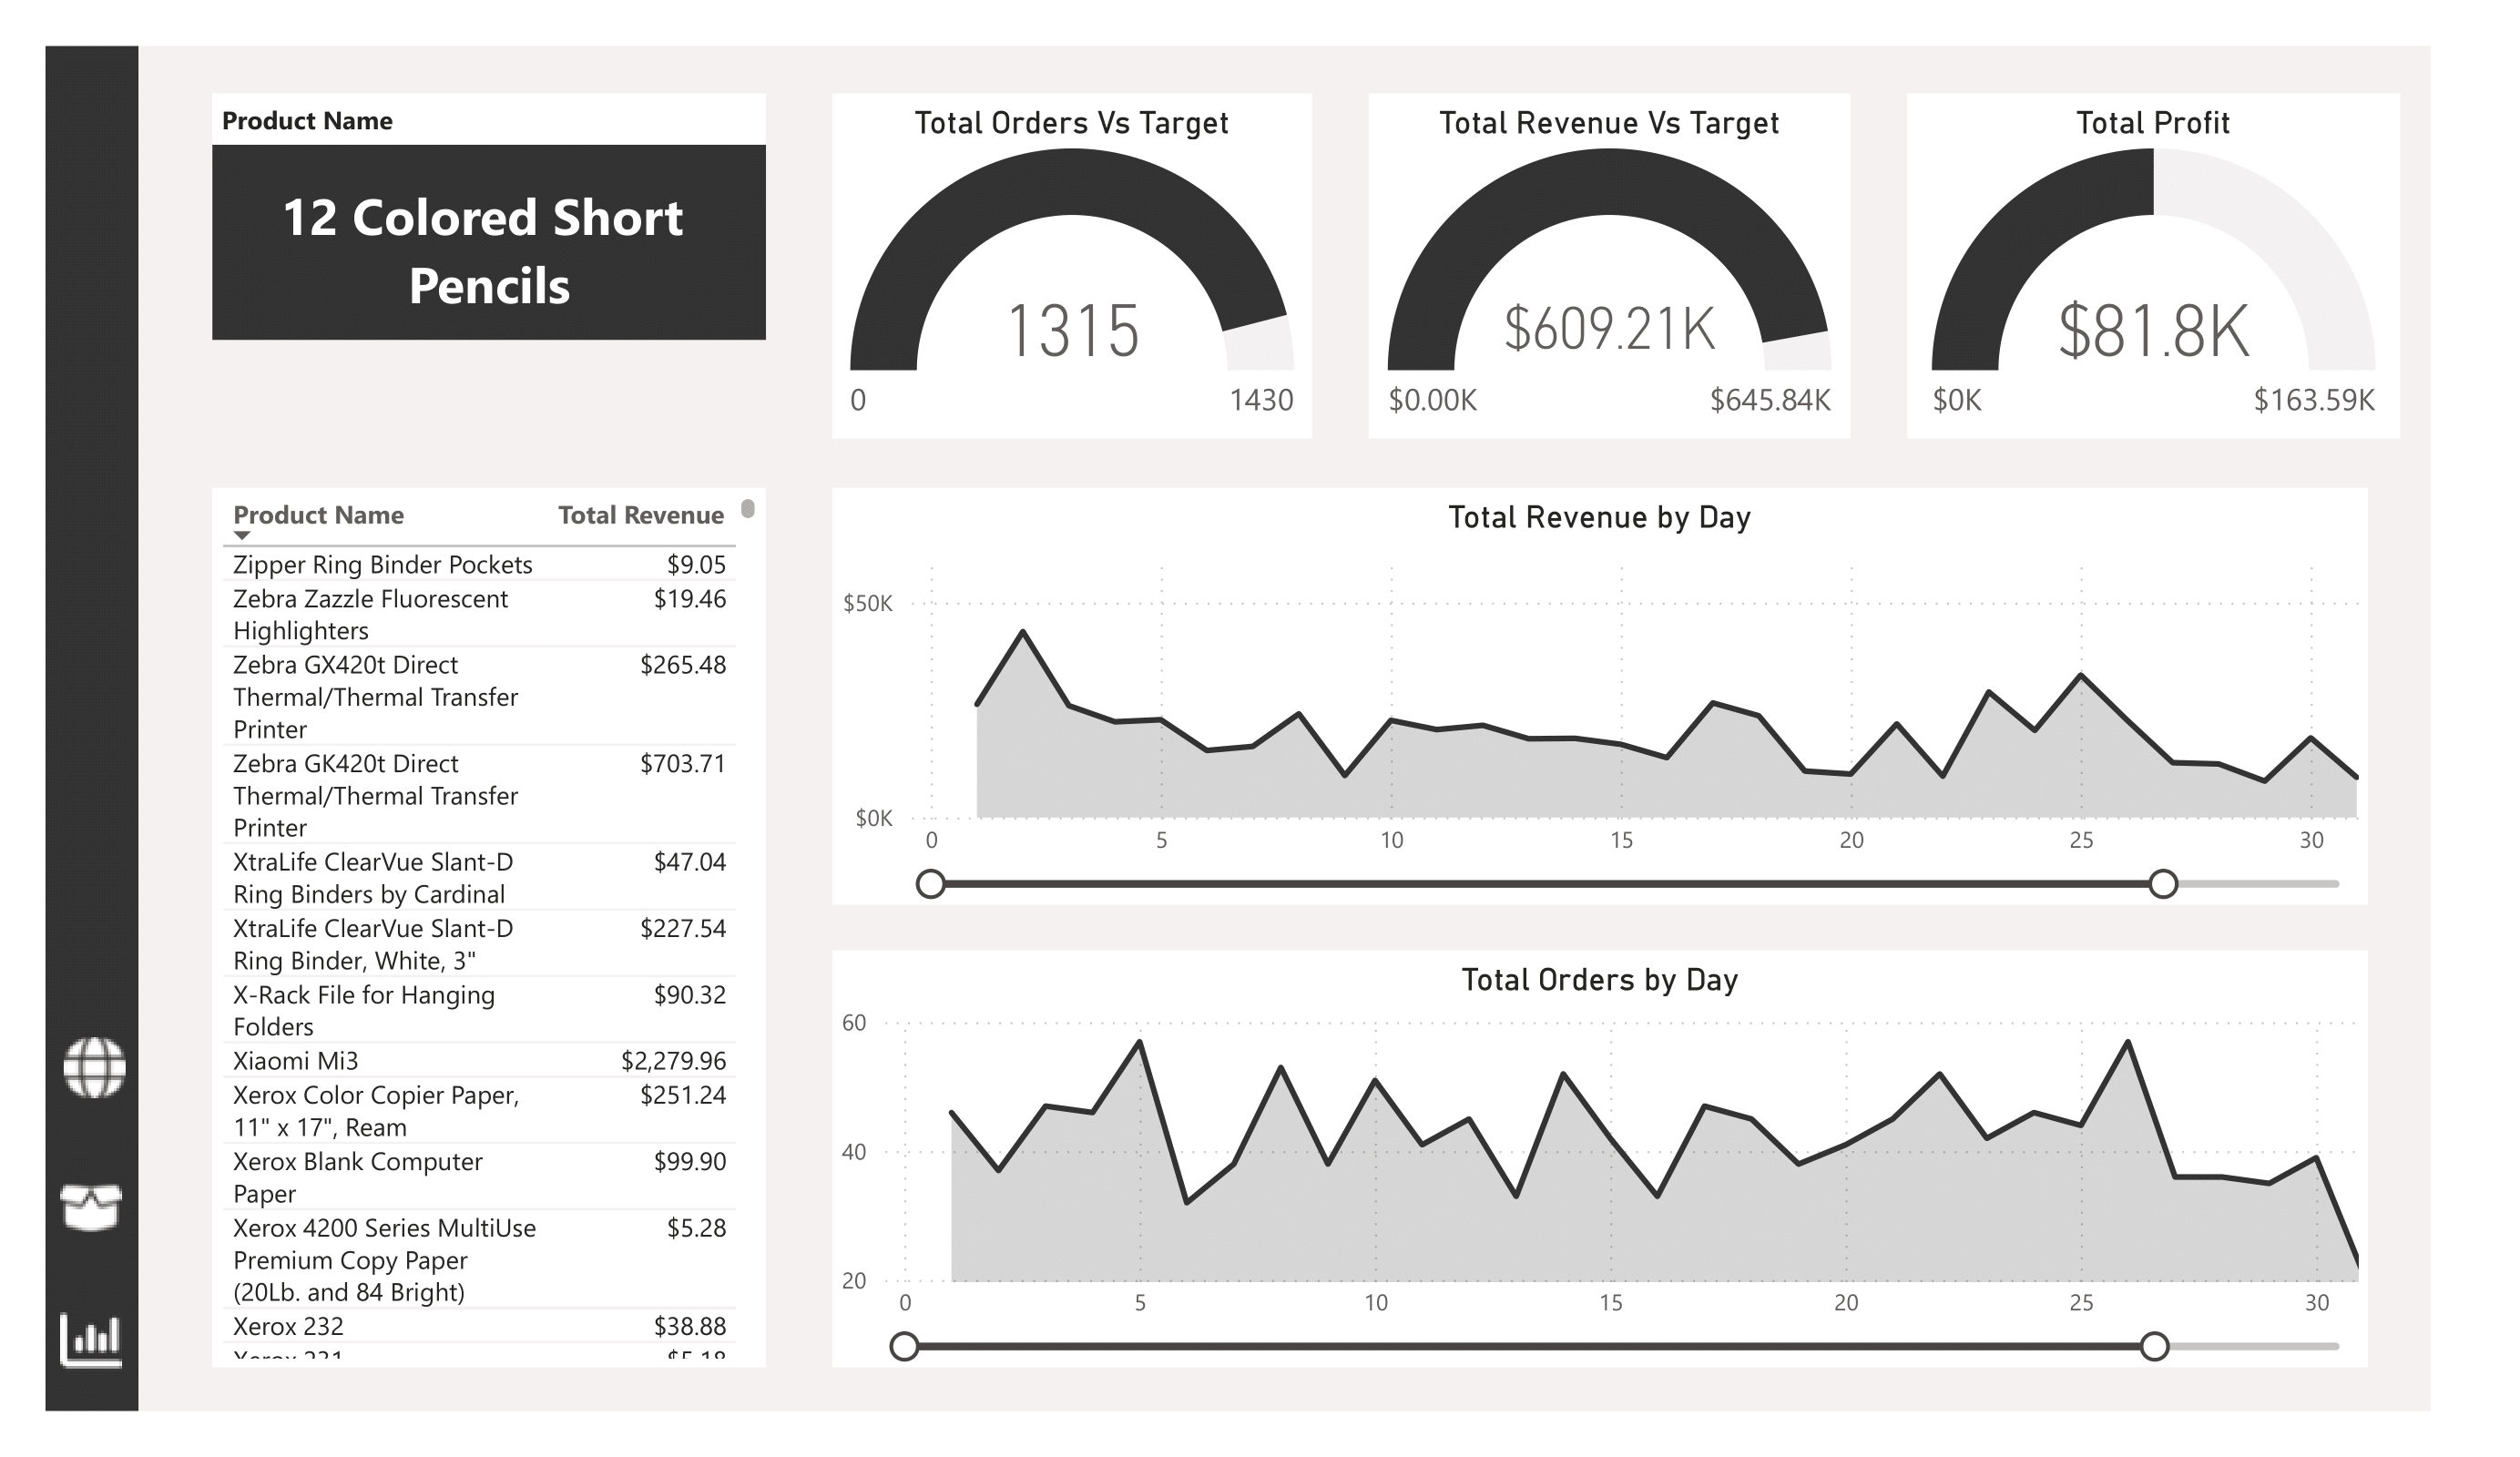

What the dashboard file says about the page in this screenshot:
{"tool":"powerbi","page":{"name":"Product","canvas":[1280,720],"ordinal":1},"visuals":[{"type":"shape","box":[5,0,1253.3,720],"z":0},{"type":"gauge","fields":{"Y":["Measures (3).Total Profit"]},"box":[981.7,25,260,181.7],"z":1000},{"type":"gauge","title":"Total Revenue Vs Target","fields":{"Y":["Measures (3).Total Revenue"],"MaxValue":["Measures (3).Revenue Target"]},"box":[698.3,25,253.3,181.7],"z":2000},{"type":"gauge","title":"Total Orders Vs Target","fields":{"Y":["Measures (3).Total Orders"],"MaxValue":["Measures (3).Order Target"]},"box":[415,25,253.3,181.7],"z":3000},{"type":"card","fields":{"Values":["Min(Orders.Product Name)"]},"box":[88.3,51.7,291.7,103.3],"z":4000},{"type":"areaChart","title":"Total Revenue by Day","fields":{"Y":["Measures (3).Total Revenue"],"Category":["Calendar2.Date2.Variation.Date Hierarchy.Year","Calendar2.Date2.Variation.Date Hierarchy.Quarter","Calendar2.Date2.Variation.Date Hierarchy.Month","Calendar2.Date2.Variation.Date Hierarchy.Day"]},"box":[415,233.3,810,220],"z":5000},{"type":"areaChart","fields":{"Y":["Measures (3).Total Orders"],"Category":["Calendar2.Date2.Variation.Date Hierarchy.Year","Calendar2.Date2.Variation.Date Hierarchy.Quarter","Calendar2.Date2.Variation.Date Hierarchy.Month","Calendar2.Date2.Variation.Date Hierarchy.Day"]},"box":[415,476.7,810,220],"z":6000},{"type":"shape","box":[0,0,48.6,720],"z":7000},{"type":"actionButton","box":[4.2,663.3,53.3,40],"z":8000},{"type":"actionButton","box":[5.6,518.9,53.3,40],"z":9000},{"type":"actionButton","box":[4.4,593.3,53.3,40],"z":10000},{"type":"tableEx","fields":{"Values":["Orders.Product Name","Measures (3).Total Revenue"]},"box":[88.3,233.3,291.7,463.3],"z":11000},{"type":"textbox","box":[88.3,25,291.7,26.7],"z":12000}]}

Visuals, with their boxes on the page's 1280x720 design canvas (x1, y1, x2, y2). These are canvas units, not pixel positions in the 2520x1457 screenshot, which may show the page scaled, cropped or inside an application window:
shape: <region>5, 0, 1258, 720</region>
gauge - Measures (3).Total Profit: <region>982, 25, 1242, 207</region>
"Total Revenue Vs Target" gauge: <region>698, 25, 952, 207</region>
"Total Orders Vs Target" gauge: <region>415, 25, 668, 207</region>
card - Min(Orders.Product Name): <region>88, 52, 380, 155</region>
"Total Revenue by Day" areaChart: <region>415, 233, 1225, 453</region>
areaChart - Measures (3).Total Orders x Calendar2.Date2.Variation.Date Hierarchy.Year: <region>415, 477, 1225, 697</region>
shape: <region>0, 0, 49, 720</region>
actionButton: <region>4, 663, 58, 703</region>
actionButton: <region>6, 519, 59, 559</region>
actionButton: <region>4, 593, 58, 633</region>
tableEx - Orders.Product Name x Measures (3).Total Revenue: <region>88, 233, 380, 697</region>
textbox: <region>88, 25, 380, 52</region>
